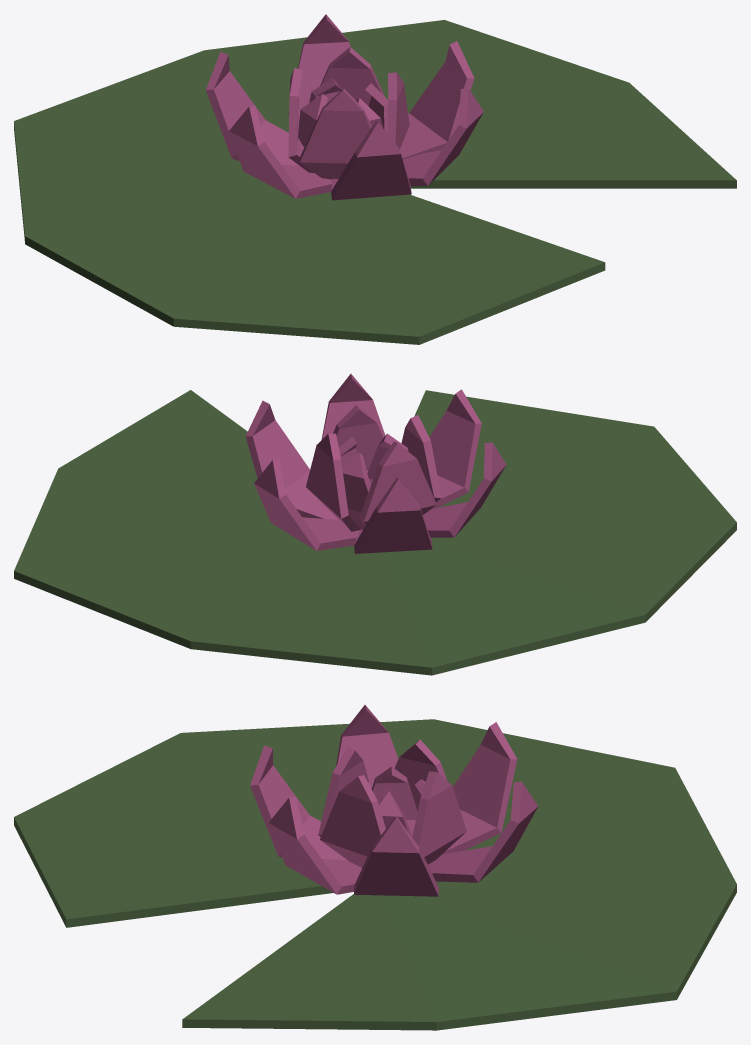
The picture shows the model from 3 angles, top to bottom: view 1: azimuth 30°, elevation 25°; view 2: azimuth 150°, elevation 25°; view 3: azimuth 270°, elevation 25°; orthographic projection. The views are drawn at different scales.
Parts seen in each view (by area): view 1: Lilypad; view 2: Lilypad; view 3: Lilypad.
Part boxes in pixels (x1=…): Lilypad: x1=14, y1=14, x2=736, y2=344; Lilypad: x1=14, y1=374, x2=736, y2=675; Lilypad: x1=14, y1=705, x2=736, y2=1030.
Size of the model in its own units: 1.2 by 0.2209 by 1.19.
